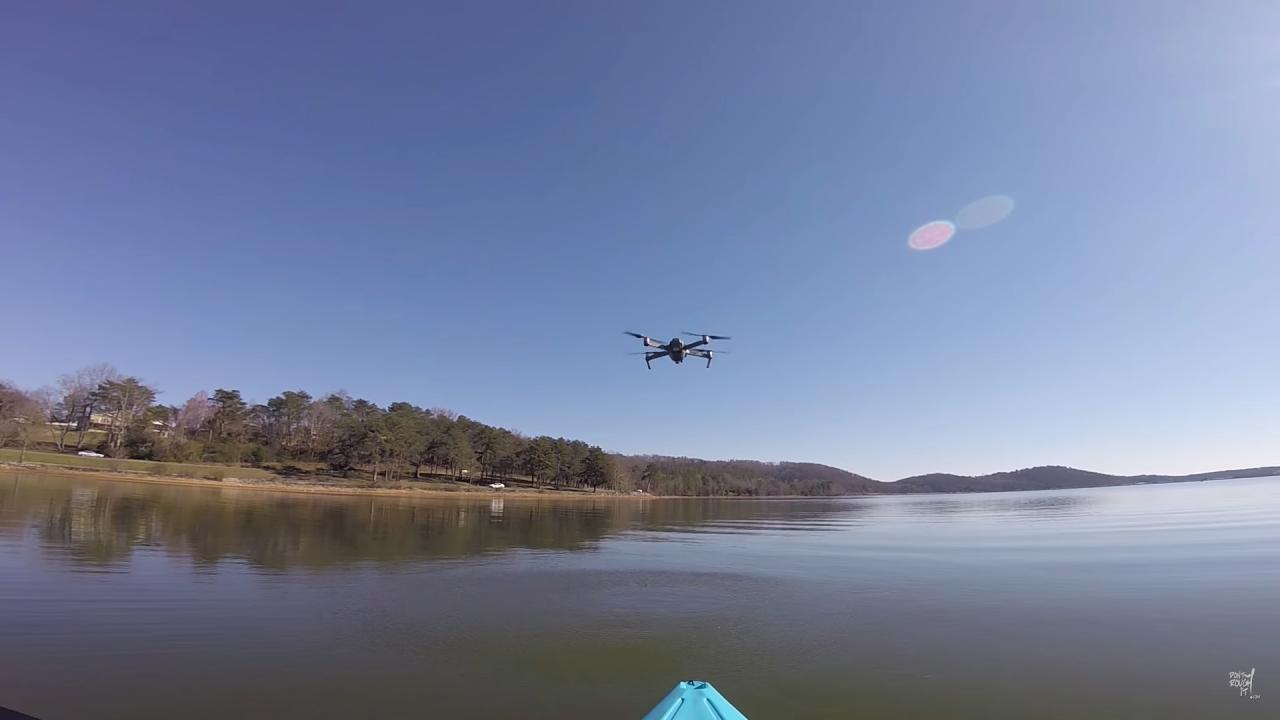Drone: (614, 315, 742, 384)
